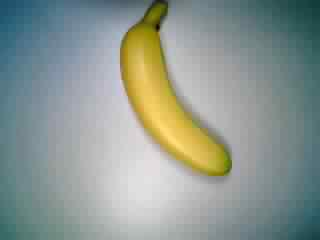banana: (117, 1, 235, 178)
